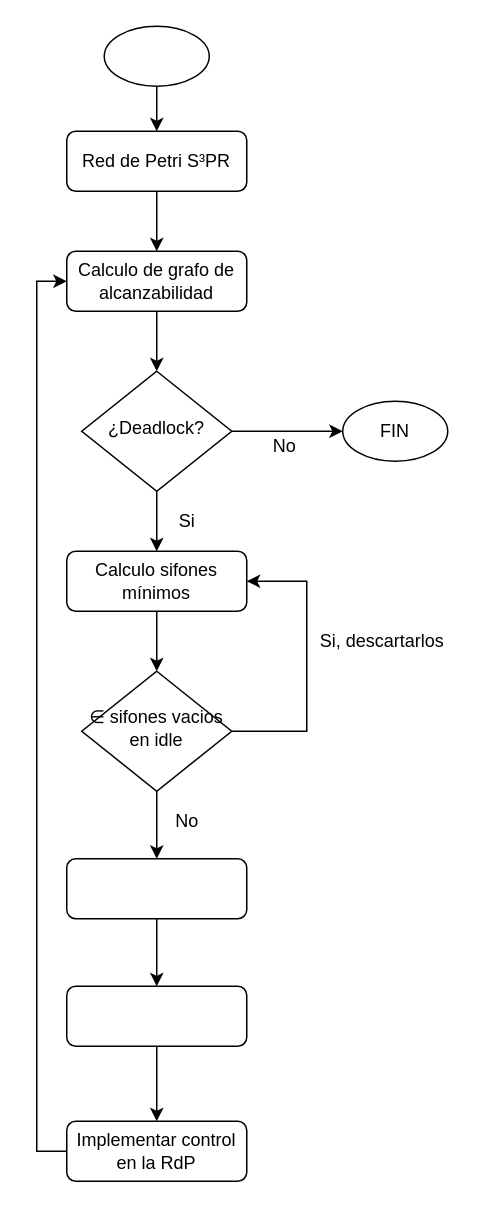
The diagram is 483 pixels wide and 1208 high, and some of its shapes have lost their labels. Each missing label, with the box of its shape:
Calcular supervisor: (65, 985, 247, 1046)
INICIO: (103, 25, 209, 86)
Mediante una política elegir un sifón a controlar: (65, 857, 247, 919)
